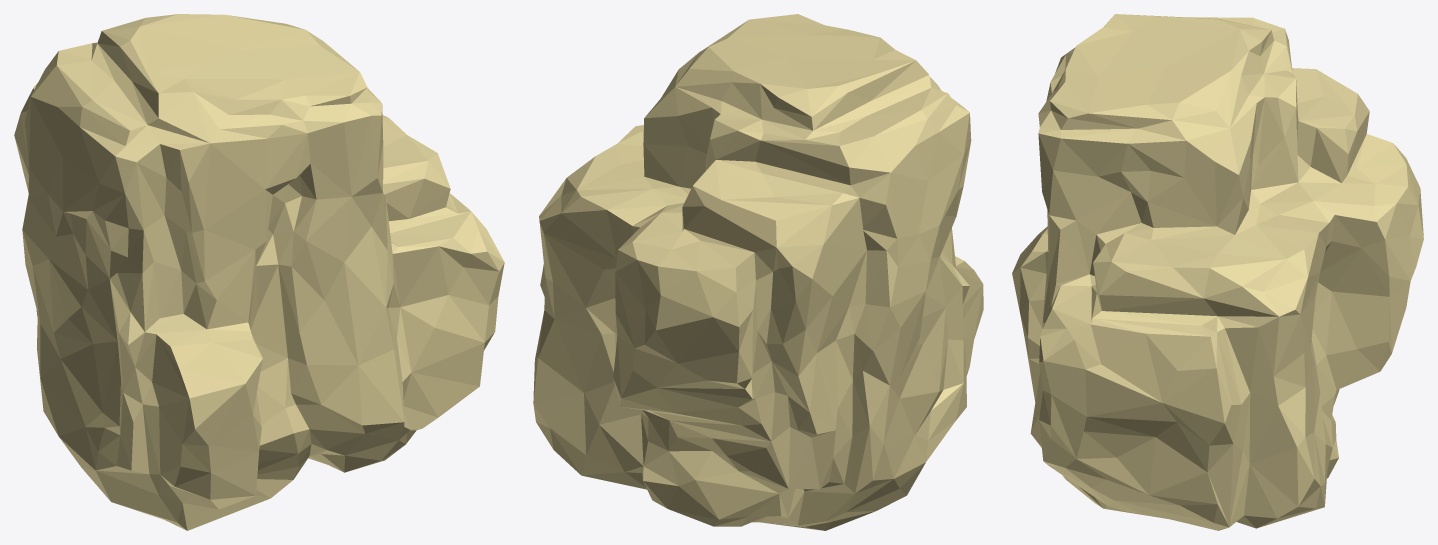
Rendered from crack_rock.glb.
3 renders of one model, left to right at view 1: azimuth 30°, elevation 25°; view 2: azimuth 150°, elevation 25°; view 3: azimuth 270°, elevation 25°, orthographic. The views are drawn at different scales.
Visible parts, largest first — view 1: crack; view 2: crack; view 3: crack.
Boxes of the visible parts, left/top/right/bottom form: crack: left=14, top=14, right=504, bottom=530; crack: left=533, top=14, right=983, bottom=530; crack: left=1012, top=14, right=1423, bottom=530.
Bounding box in the file's own units: 4.06 × 4.41 × 3.92.
